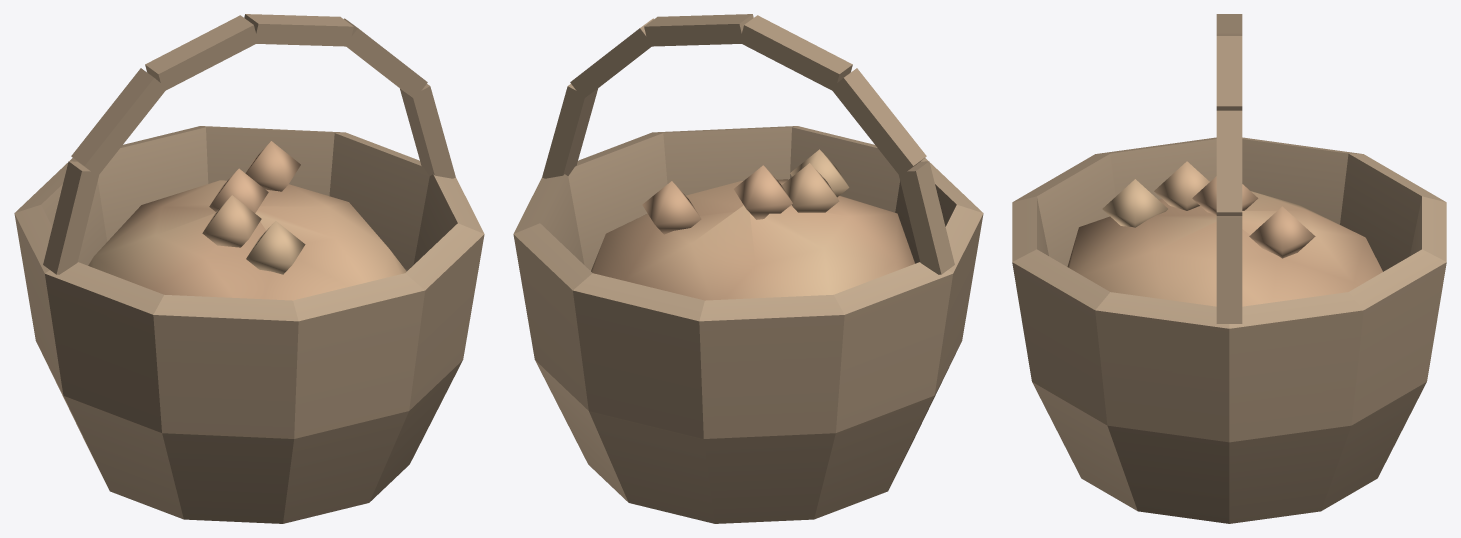
The model's file is SM_BM_BP_Basket.glb.
The picture shows the model from 3 angles, left to right: view 1: azimuth 30°, elevation 25°; view 2: azimuth 150°, elevation 25°; view 3: azimuth 270°, elevation 25°; orthographic projection. The views are drawn at different scales.
Parts seen in each view (by area): view 1: SM_BM_BP_Basket; view 2: SM_BM_BP_Basket; view 3: SM_BM_BP_Basket.
Part boxes in pixels (<box>): SM_BM_BP_Basket: <box>14,14,484,523</box>; SM_BM_BP_Basket: <box>513,14,983,523</box>; SM_BM_BP_Basket: <box>1012,14,1446,523</box>.
Size of the model in its own units: 0.44 by 0.4497 by 0.4185.
